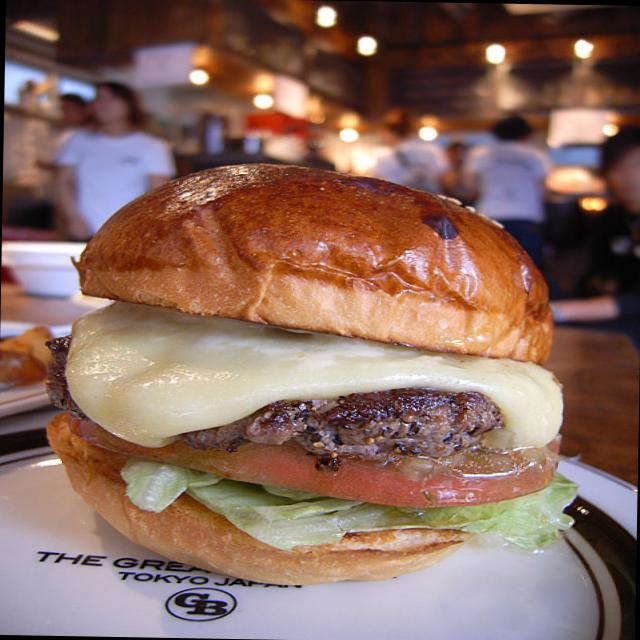Hamburger: (60, 132, 607, 612)
